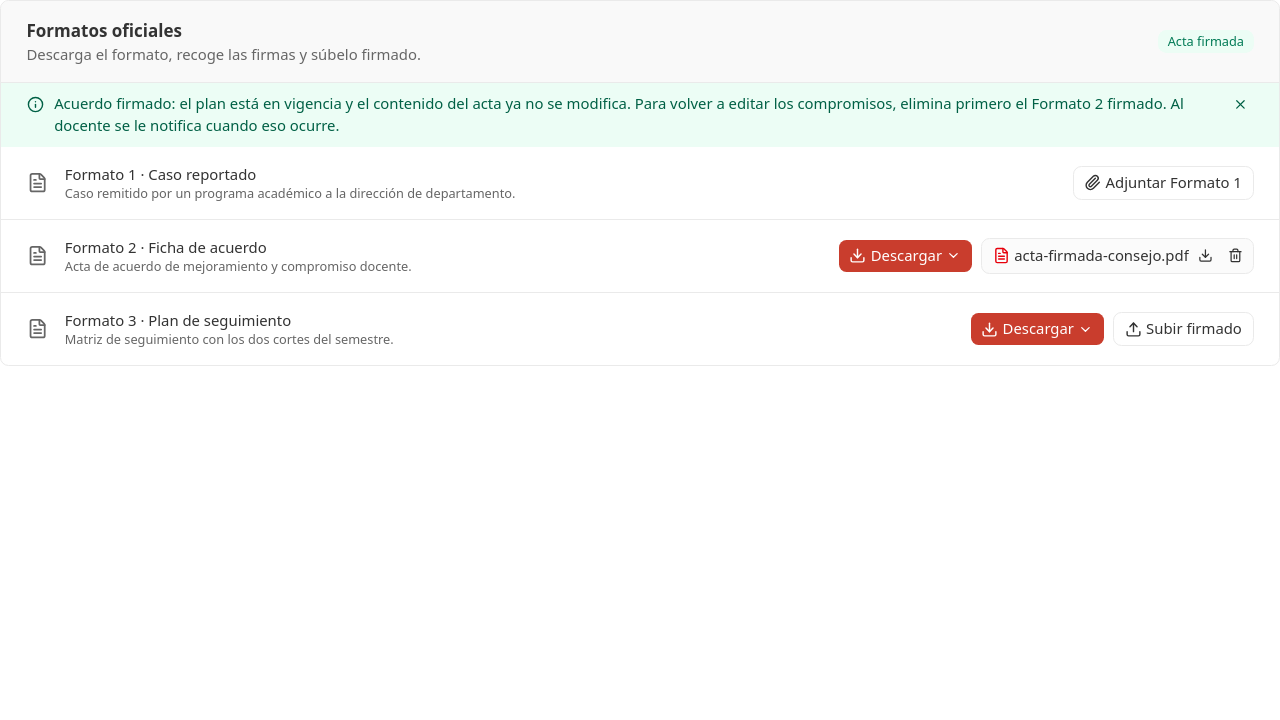
it: PlanDocuments · el acuerdo se firma, no se cierra › al quitar la ficha firmada avisa de que el plan vuelve a ser editable
Click the button named "Eliminar acta-firmada-consejo.pdf" at (1236, 256), box [1223, 243, 1248, 269]
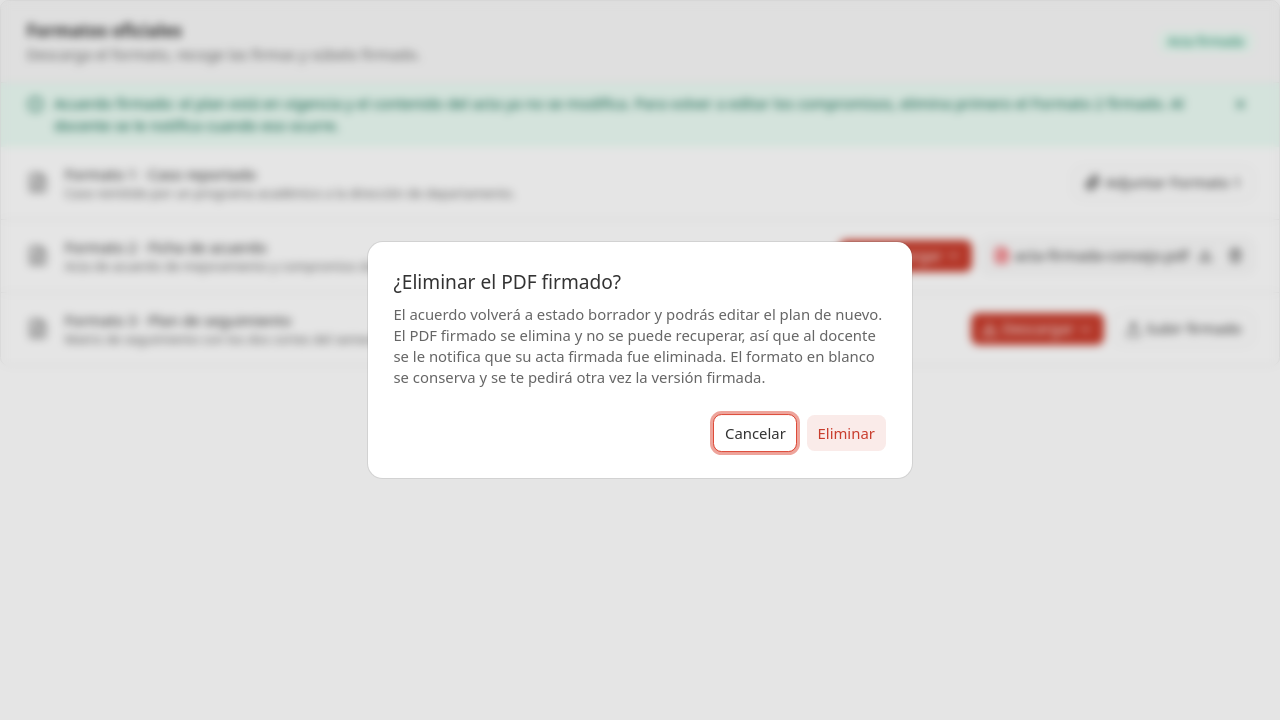
expect the text "podrás editar el plan de nuevo" is shown: met, box [394, 304, 882, 388]
